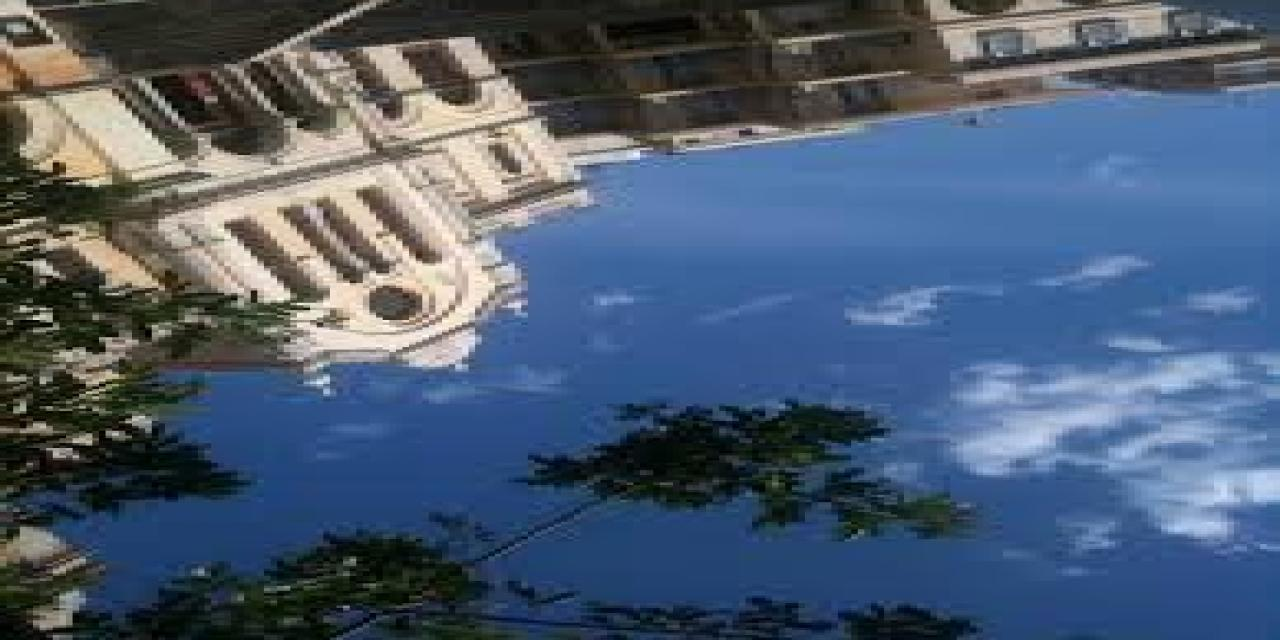Agios Minas: (6, 4, 601, 384)
